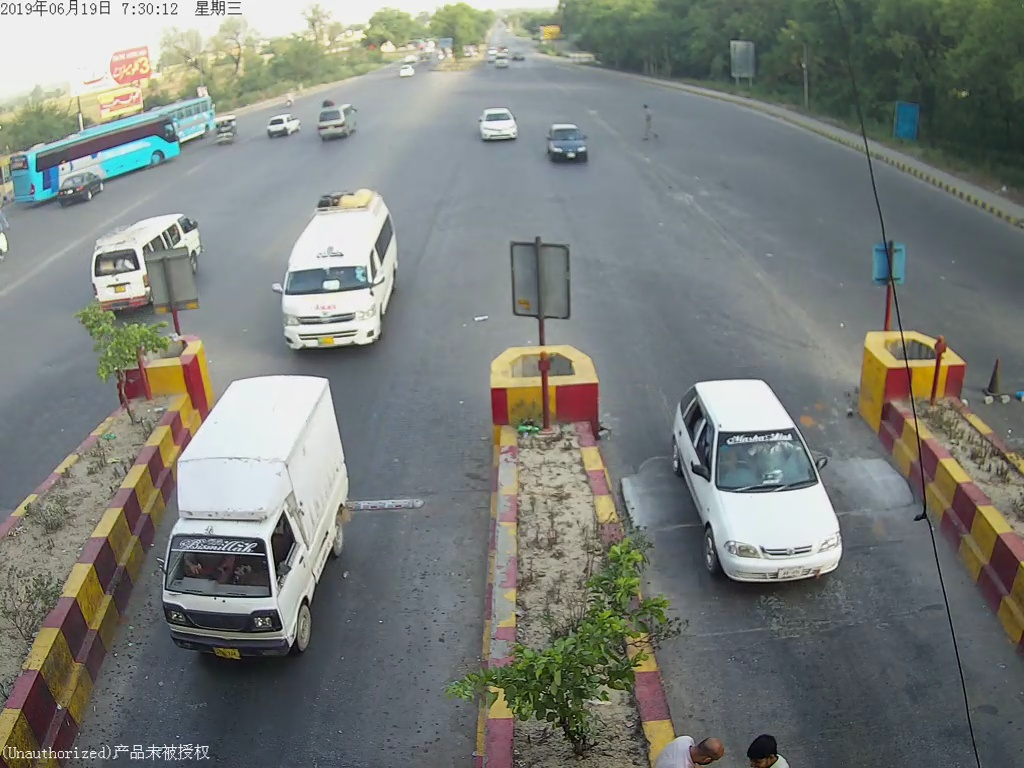Cat-1: (153, 381, 376, 690), (669, 369, 840, 598), (545, 116, 595, 176), (467, 98, 527, 148)
Cat-2: (272, 190, 407, 352)
